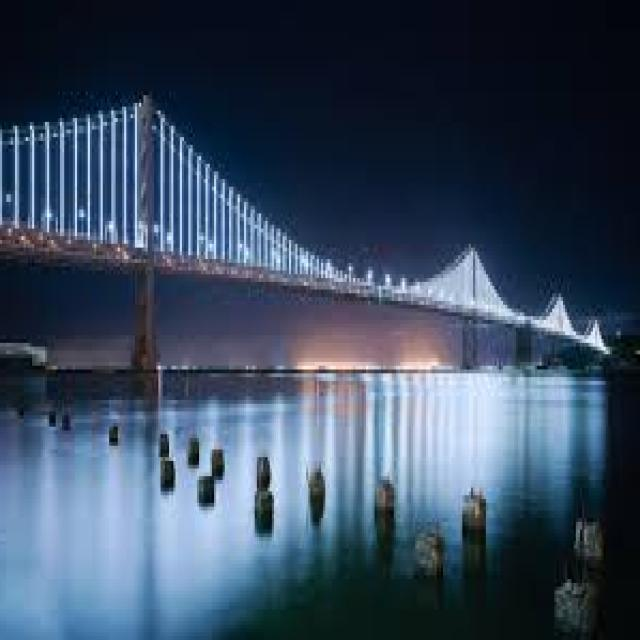Bridges: (0, 61, 630, 484)
